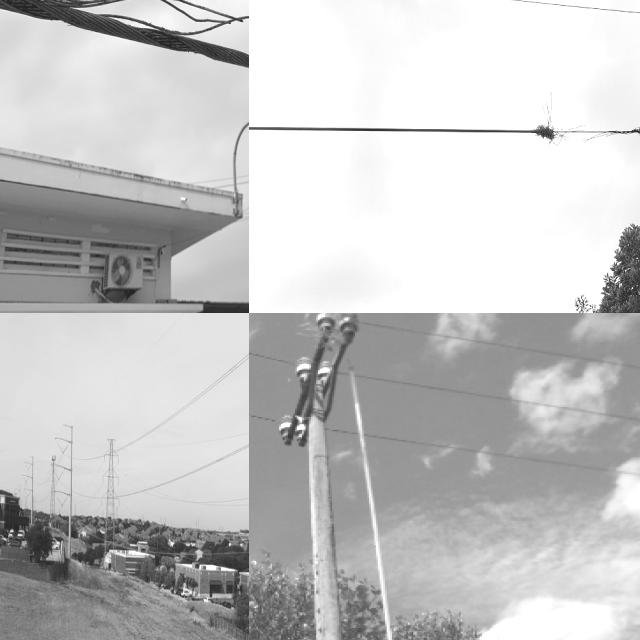杆塔: (96, 429, 125, 568), (46, 448, 64, 526)
植被遮挡: (293, 313, 364, 354)
电缆破损: (45, 0, 249, 80), (525, 92, 640, 161)
